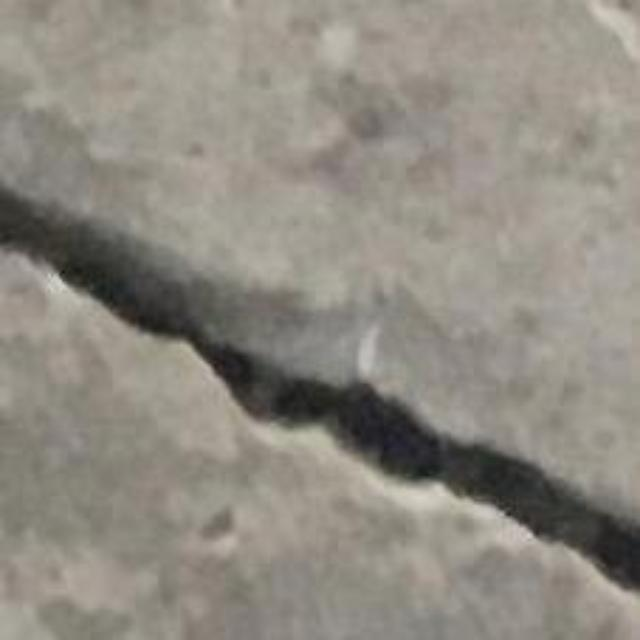crack: (0, 184, 639, 603)
